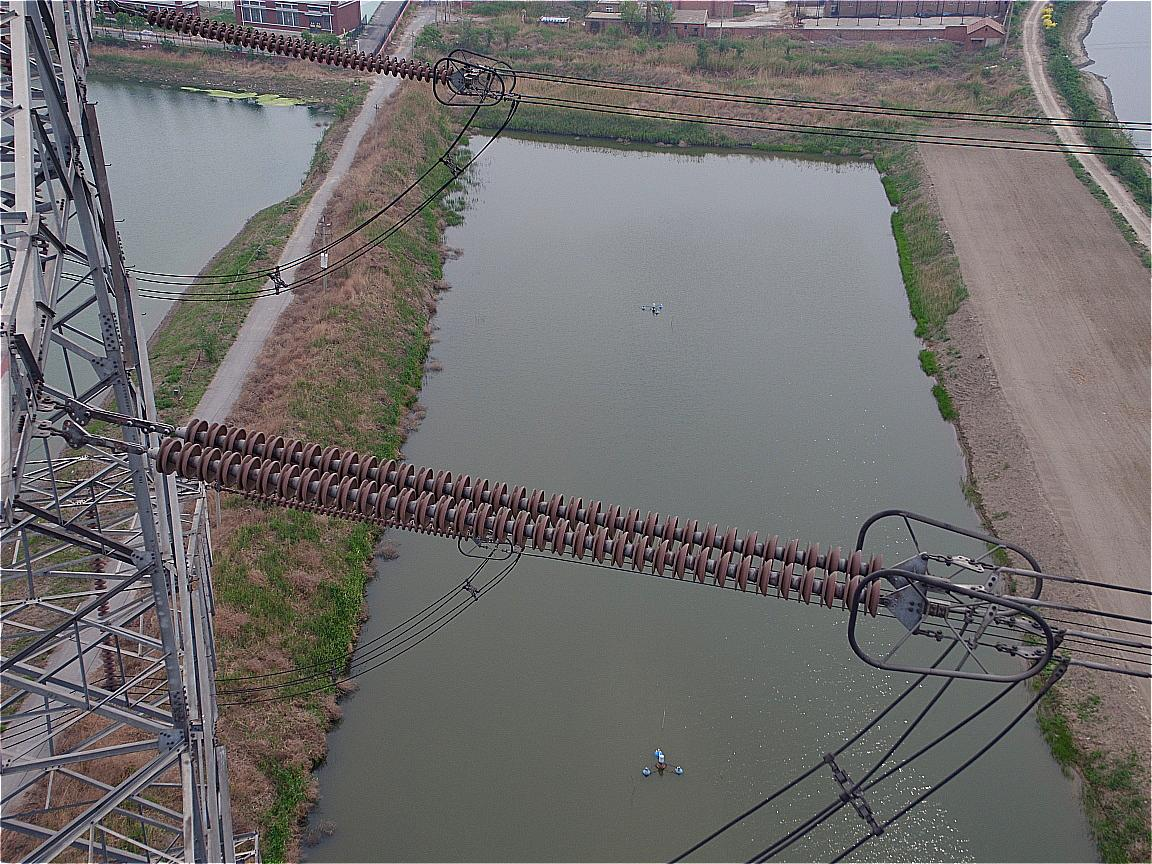insultor1: (150, 7, 457, 89)
insultor2: (155, 415, 884, 615)
